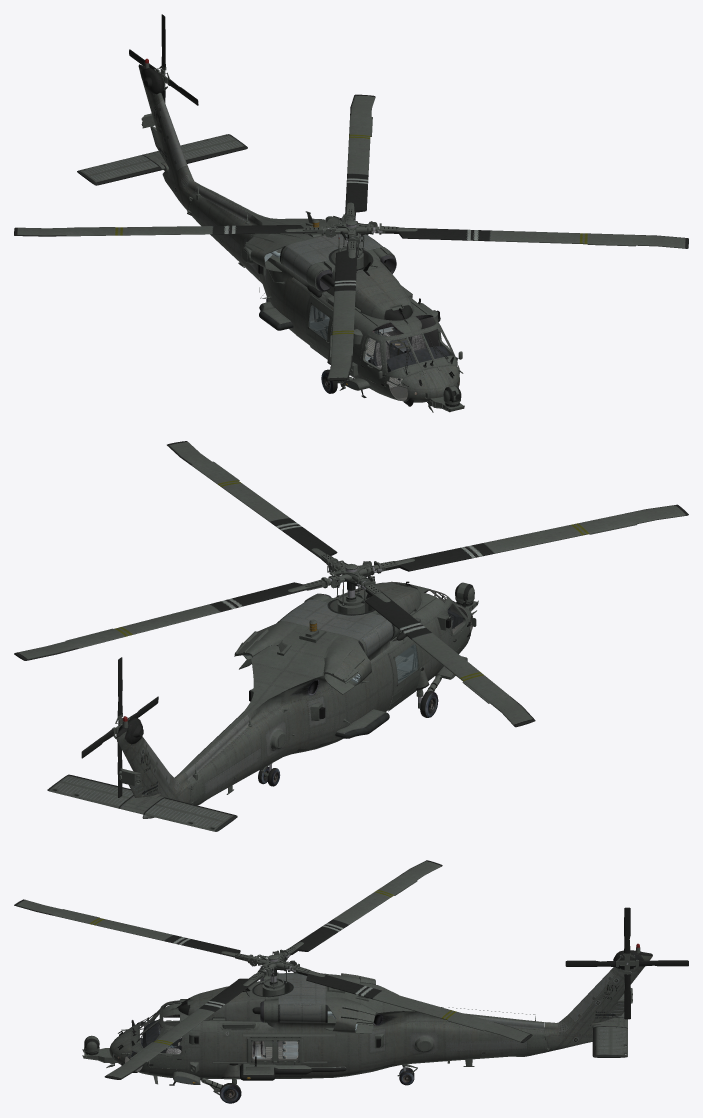
File: Mi24_Insertion.fbx
3 views of the same model, one above another, from view 1: azimuth 30°, elevation 25°; view 2: azimuth 150°, elevation 25°; view 3: azimuth 270°, elevation 25° (orthographic). The views are drawn at different scales.
Parts seen in each view (by area): view 1: HelicopterBody, MainRotor, CabinDoor_L, TailRotor; view 2: HelicopterBody, MainRotor, TailRotor, CabinDoor_L; view 3: HelicopterBody, MainRotor, TailRotor.
Part boxes in pixels (x1,y1,x2,y2): HelicopterBody: [77, 58, 464, 412]; MainRotor: [14, 94, 688, 380]; CabinDoor_L: [305, 295, 333, 359]; TailRotor: [129, 14, 198, 105]; HelicopterBody: [47, 554, 478, 831]; MainRotor: [14, 441, 688, 727]; TailRotor: [81, 657, 158, 797]; CabinDoor_L: [388, 637, 422, 711]; HelicopterBody: [82, 943, 652, 1103]; MainRotor: [14, 860, 532, 1079]; TailRotor: [565, 907, 688, 1019].
Bounding box in the file's own units: 18.59 × 7.12 × 24.16.
Materials: 4 (3 with a texture image).
